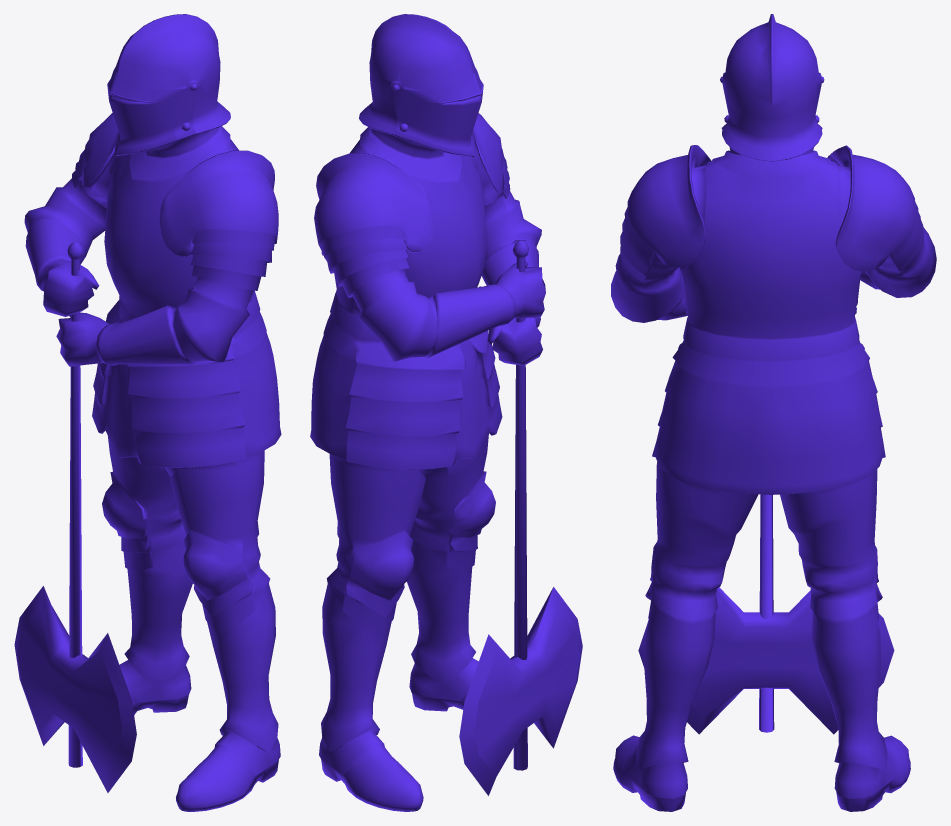
Rendered from Statue_Axe.fbx.
3 views of the same model, side by side, from view 1: azimuth 30°, elevation 25°; view 2: azimuth 150°, elevation 25°; view 3: azimuth 270°, elevation 25° (orthographic). The views are drawn at different scales.
Parts seen in each view (by area): view 1: Statue_Axe; view 2: Statue_Axe; view 3: Statue_Axe.
Part boxes in pixels (x1,y1,x2,y2): Statue_Axe: (14,14,281,811); Statue_Axe: (310,14,582,811); Statue_Axe: (611,14,936,811).
Bounding box in the file's own units: 1.54 × 1.93 × 5.01.
